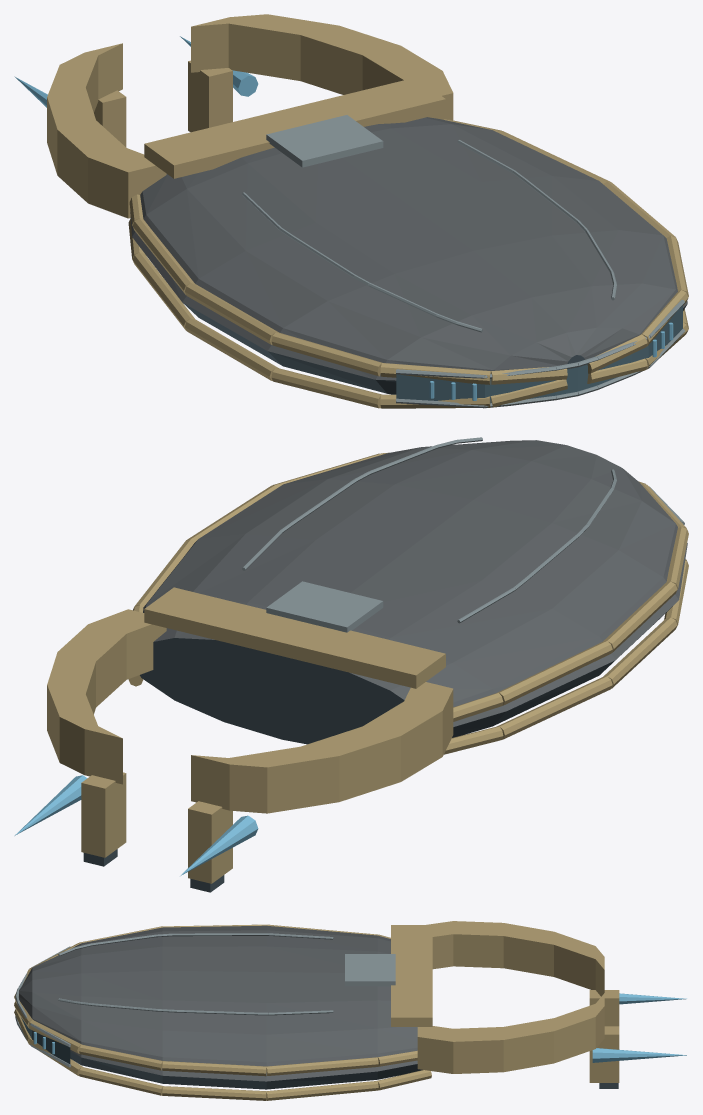
File: rayfam_black_gold_flight.glb
The picture shows the model from 3 angles, top to bottom: view 1: azimuth 30°, elevation 25°; view 2: azimuth 150°, elevation 25°; view 3: azimuth 270°, elevation 25°; orthographic projection. The views are drawn at different scales.
Visible parts, largest first — view 1: material_0, material_2, material_3, material_4, material_1, material_5; view 2: material_0, material_2, material_1, material_3, material_5; view 3: material_0, material_2, material_3, material_1, material_5, material_4.
Part boxes in pixels (bbox=[...]): material_0: bbox=[130, 117, 687, 380]; material_2: bbox=[47, 14, 688, 408]; material_3: bbox=[242, 115, 684, 408]; material_4: bbox=[396, 305, 682, 403]; material_1: bbox=[183, 303, 687, 394]; material_5: bbox=[14, 36, 673, 400]; material_0: bbox=[143, 440, 687, 726]; material_2: bbox=[47, 452, 688, 883]; material_1: bbox=[83, 606, 672, 892]; material_3: bbox=[242, 437, 684, 632]; material_5: bbox=[14, 775, 258, 875]; material_0: bbox=[19, 925, 417, 1081]; material_2: bbox=[14, 921, 619, 1100]; material_3: bbox=[15, 933, 395, 1067]; material_1: bbox=[70, 1051, 618, 1089]; material_5: bbox=[33, 993, 686, 1062]; material_4: bbox=[21, 1017, 70, 1063].
Bounding box in the file's own units: 17.71 × 5.57 × 34.17.
